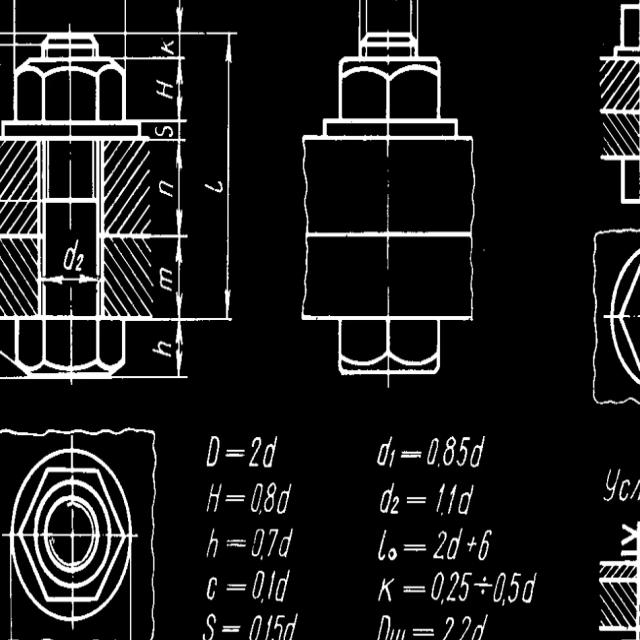marking_line: (225, 35, 233, 319), (173, 241, 185, 316), (175, 140, 184, 232), (43, 275, 96, 290), (174, 62, 185, 116), (173, 322, 184, 375), (174, 0, 182, 32)
numeric: (492, 564, 545, 611), (426, 433, 490, 469), (426, 566, 473, 607), (251, 525, 296, 564), (249, 566, 295, 604), (434, 482, 476, 522), (249, 479, 290, 516), (247, 614, 299, 640), (441, 613, 489, 640), (248, 433, 278, 471), (433, 526, 464, 559), (60, 240, 90, 274), (478, 525, 497, 563), (150, 75, 175, 101), (157, 178, 175, 210), (200, 177, 223, 199), (152, 336, 173, 360), (158, 259, 169, 293), (158, 36, 177, 54), (151, 125, 176, 138)
special_symbol: (472, 573, 495, 600), (402, 539, 429, 558), (398, 446, 428, 463), (223, 442, 247, 463), (223, 577, 250, 593), (401, 579, 426, 595), (224, 536, 249, 551), (402, 494, 429, 507), (411, 625, 436, 639), (219, 622, 243, 634), (465, 533, 478, 552), (225, 494, 247, 504)
